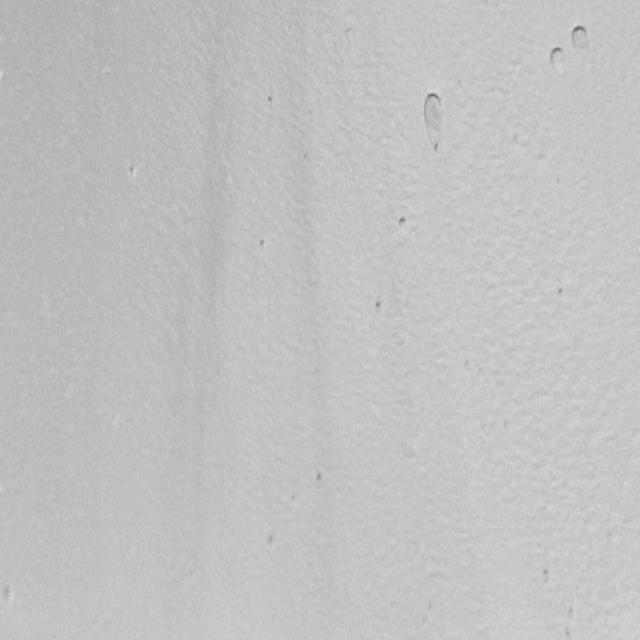pin holes: (414, 88, 449, 158), (568, 23, 591, 53), (547, 45, 567, 73), (537, 566, 558, 590), (393, 212, 413, 234), (263, 531, 282, 554), (1, 584, 17, 610), (372, 296, 389, 319), (312, 469, 329, 487), (126, 162, 140, 179), (257, 236, 271, 252)
